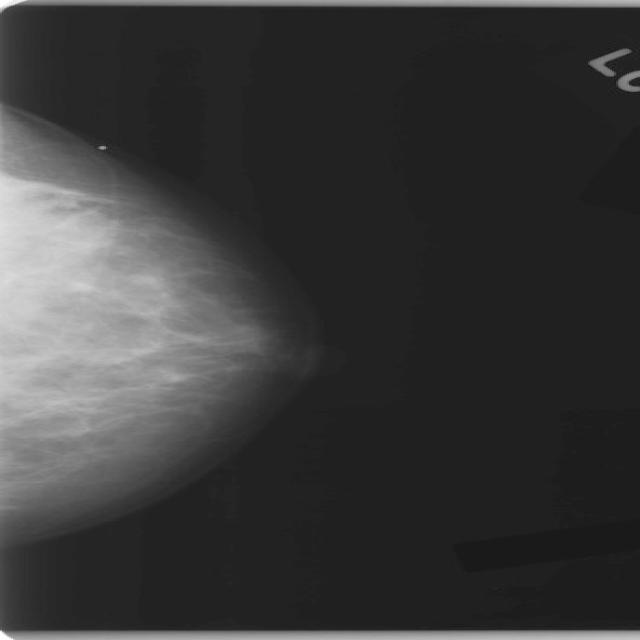tumour: (0, 175, 117, 273)
